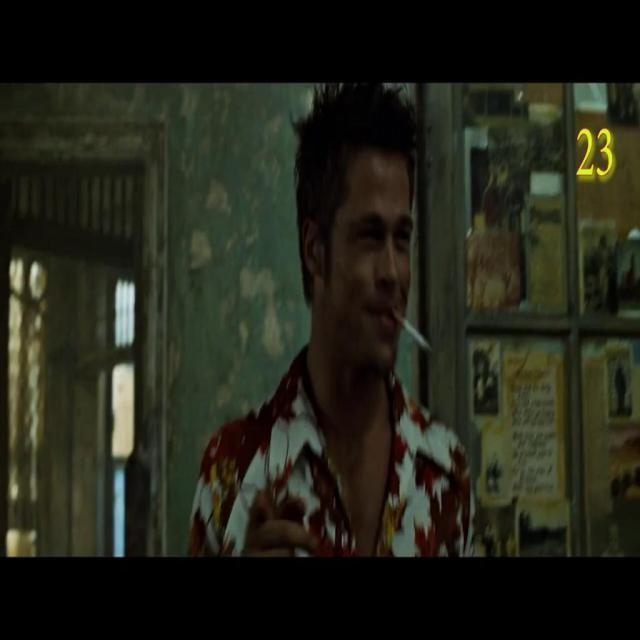smoking: (391, 306, 436, 356)
